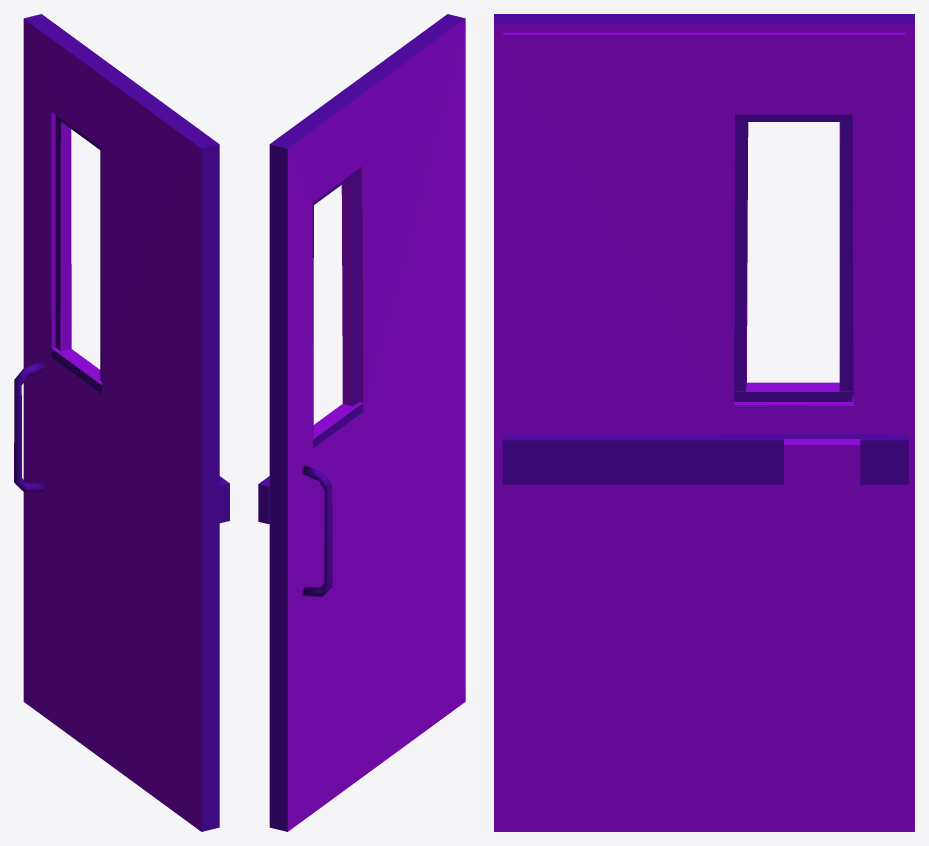
The model's file is Single School Door R.fbx.
3 renders of one model, left to right at view 1: azimuth 30°, elevation 25°; view 2: azimuth 150°, elevation 25°; view 3: azimuth 270°, elevation 25°, orthographic. The views are drawn at different scales.
Visible parts, largest first — view 1: Cube, Cylinder, Cube.001; view 2: Cube, Cylinder, Cube.001; view 3: Cube, Cube.001, Cube.002.
Boxes of the visible parts, x1,y1,x2,y2 form: Cube: [23, 14, 219, 831]; Cylinder: [14, 361, 44, 491]; Cube.001: [219, 476, 229, 523]; Cube: [269, 14, 465, 831]; Cylinder: [302, 465, 332, 596]; Cube.001: [258, 476, 269, 524]; Cube: [494, 14, 914, 831]; Cube.001: [502, 434, 908, 484]; Cube.002: [784, 439, 860, 489].
Size of the model in its own units: 76.59 by 758 by 358.
